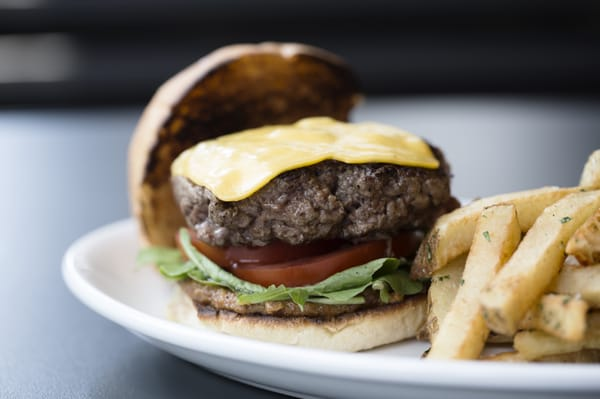soup: (144, 118, 462, 354), (409, 146, 600, 362)
